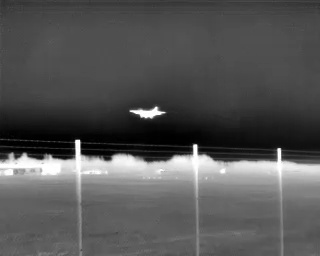AIRPLANE: (125, 103, 169, 122)
